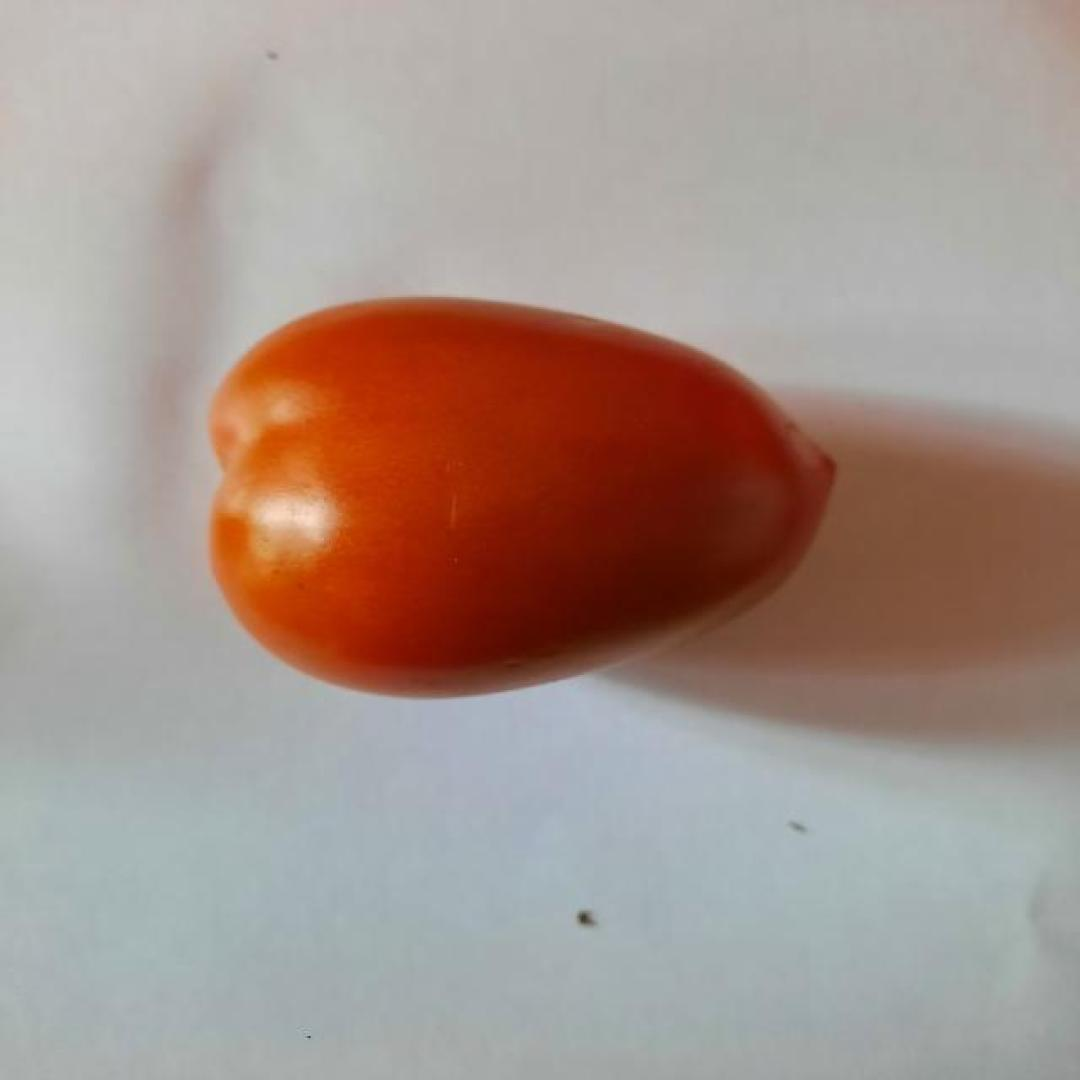matang: (202, 294, 840, 704)
